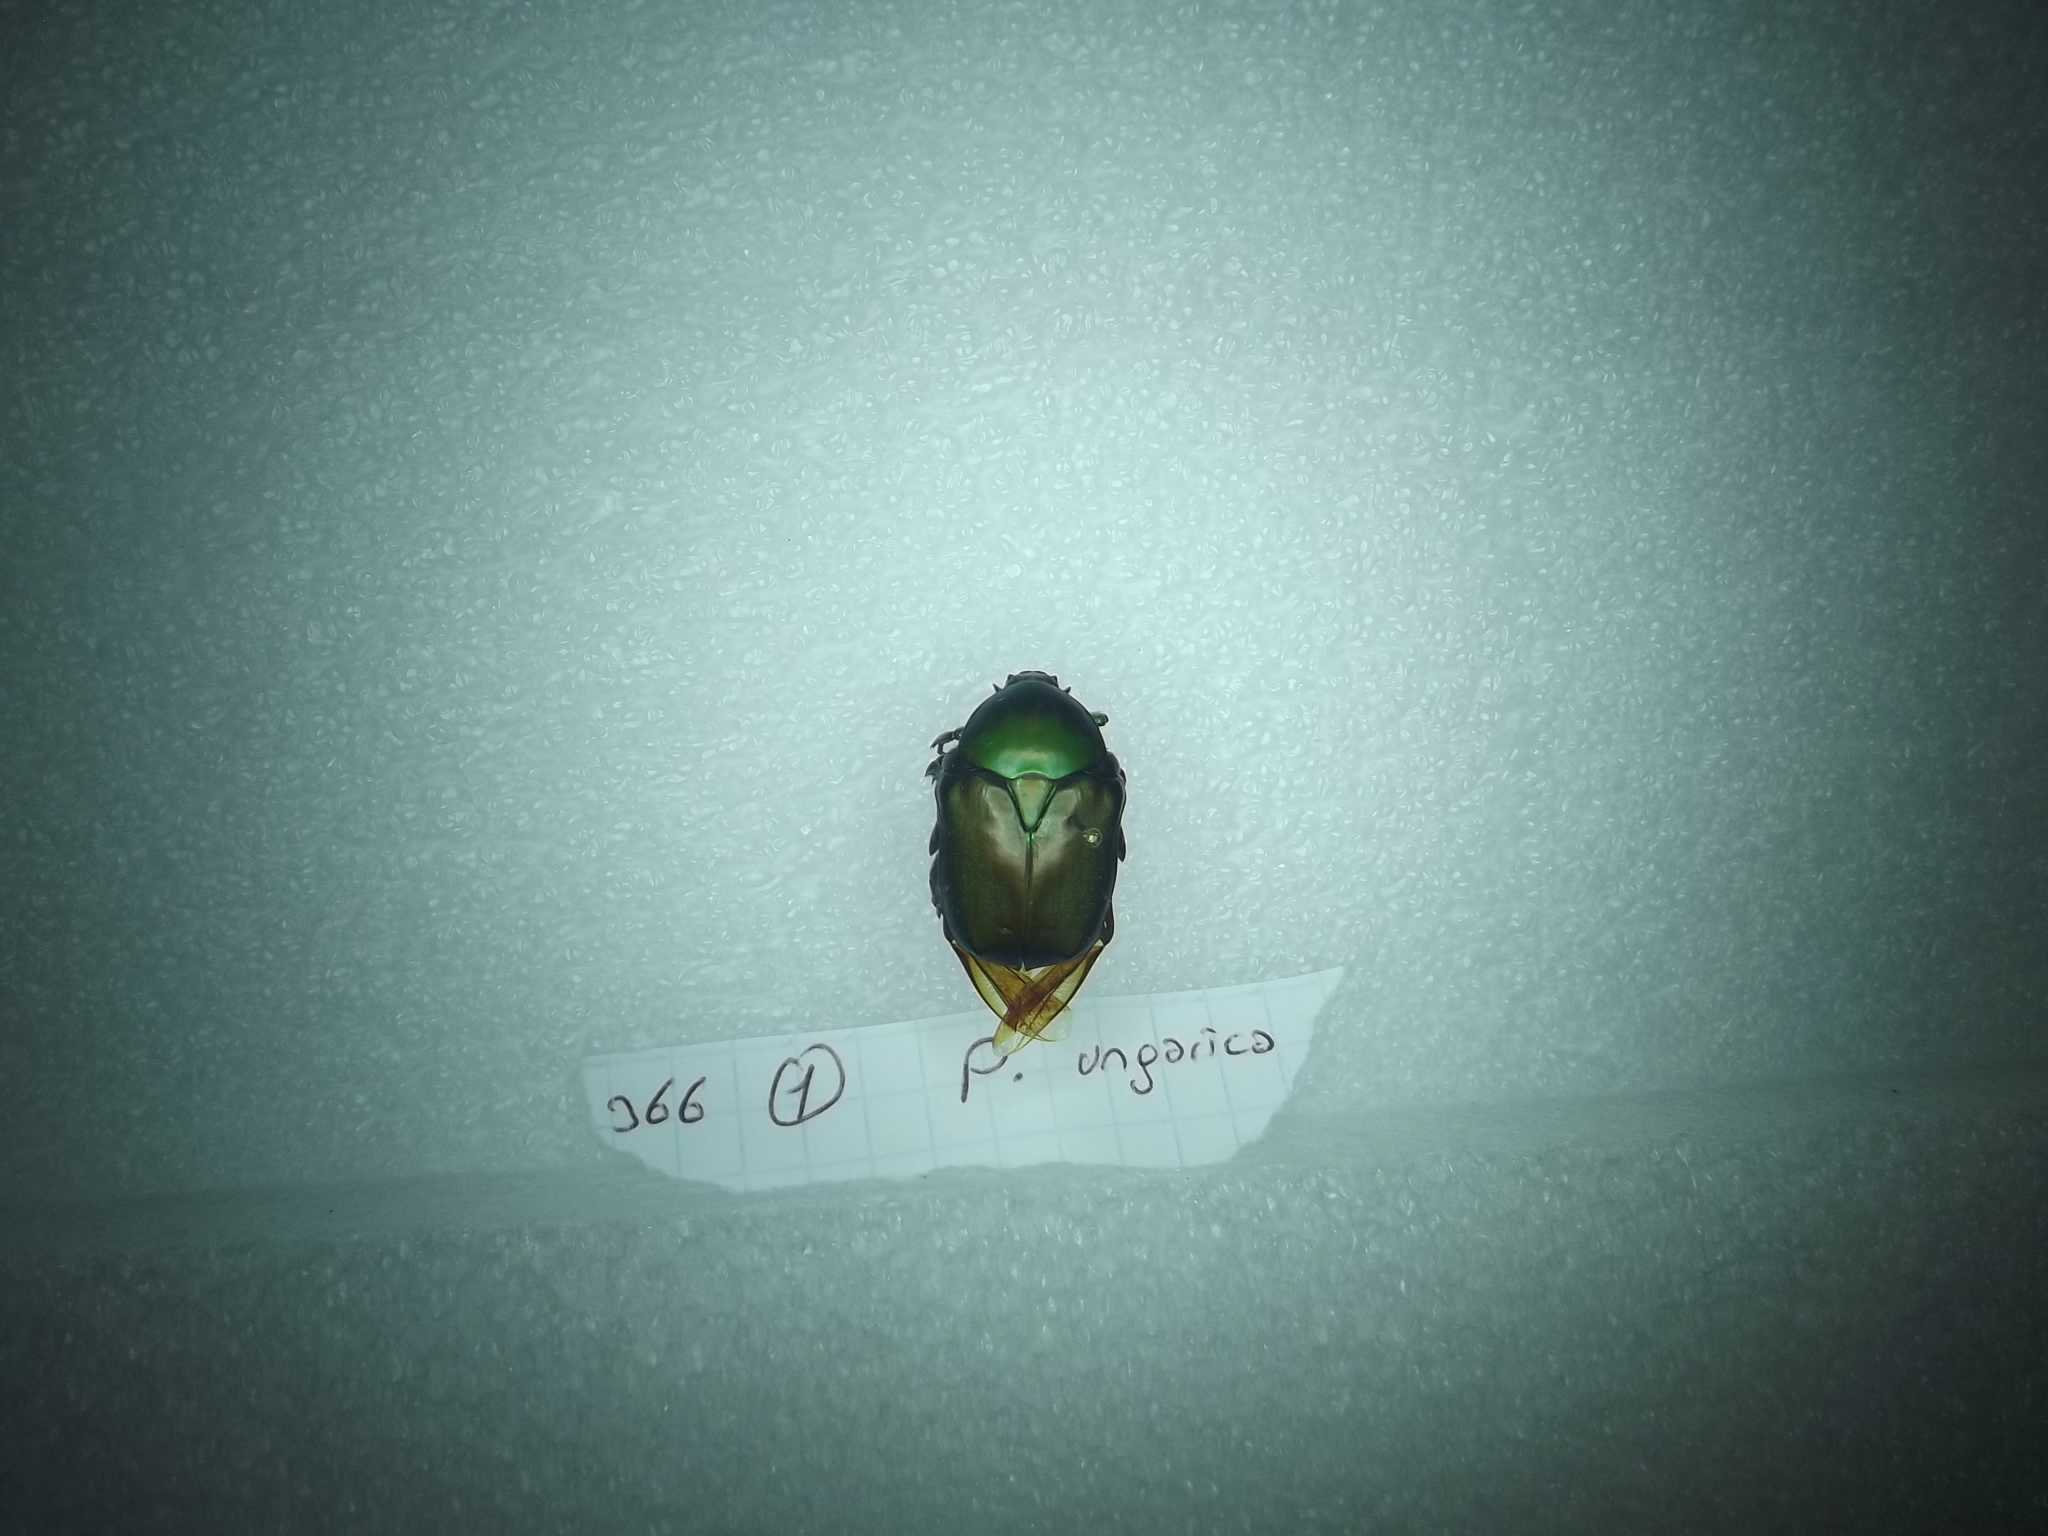Protaetia_ungarica_americana: (916, 657, 1150, 1050)
